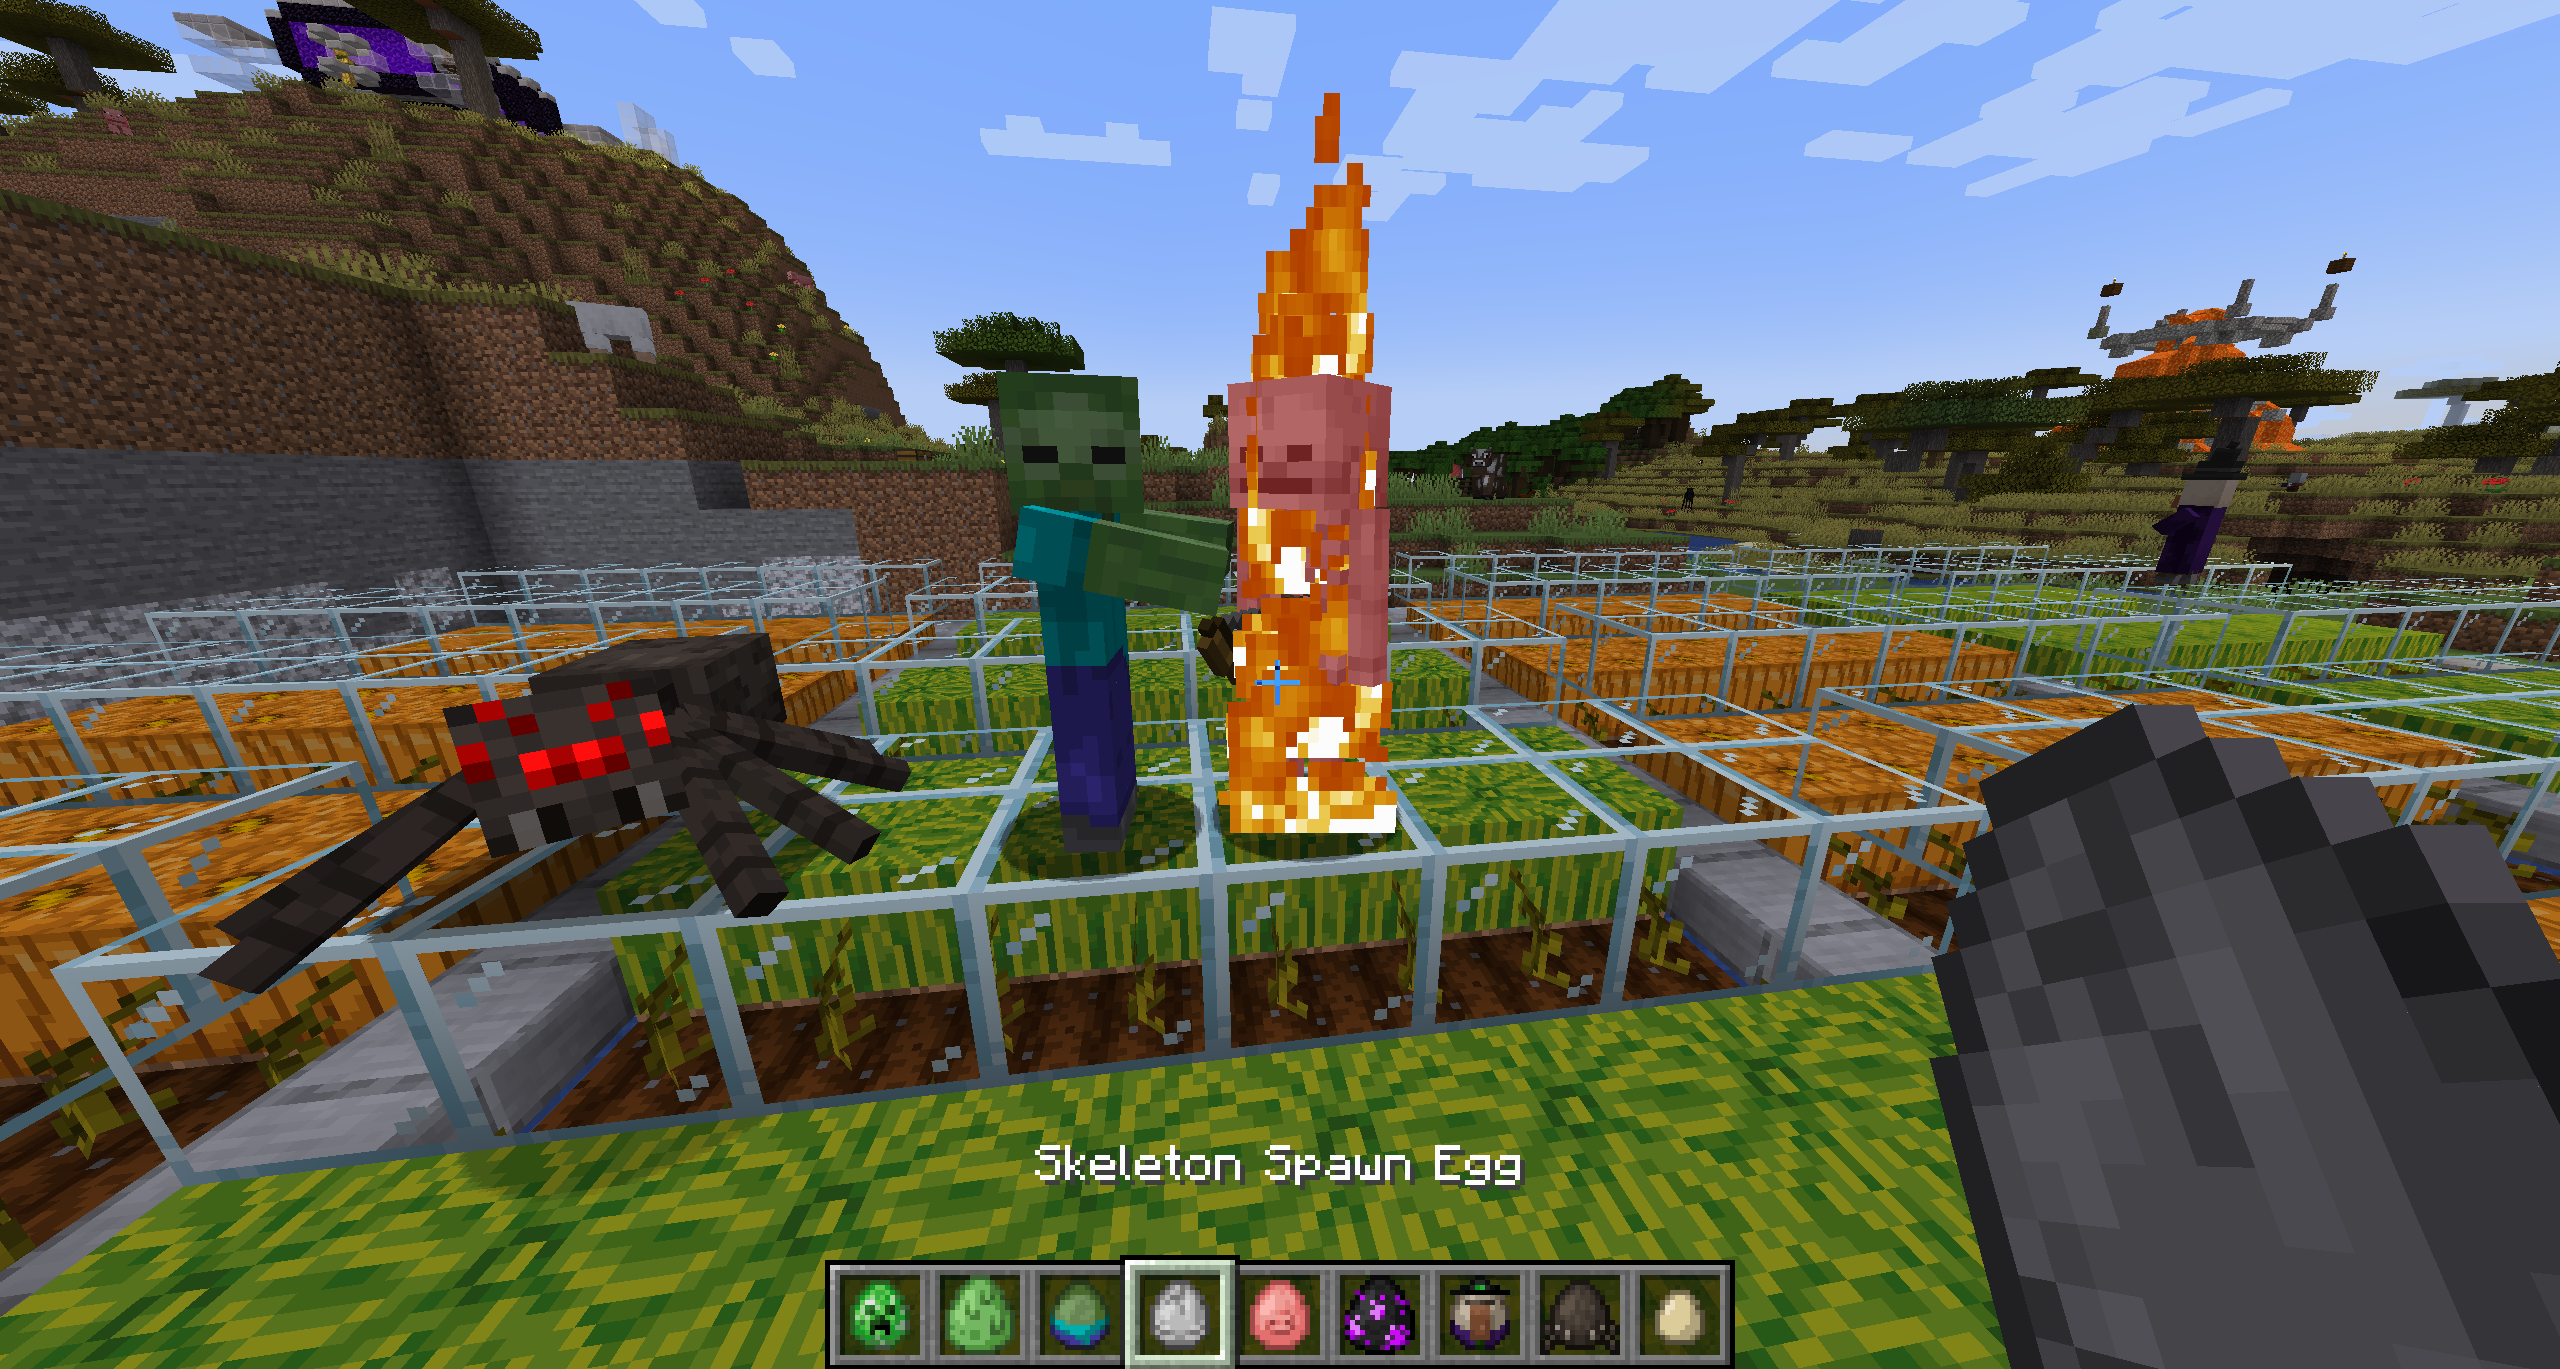araignees: (405, 636, 830, 897)
cochons: (97, 102, 135, 147), (782, 267, 821, 293)
sorcieres: (2162, 455, 2237, 596)
squelettes: (1217, 382, 1395, 822)
zombies: (987, 364, 1199, 824)
